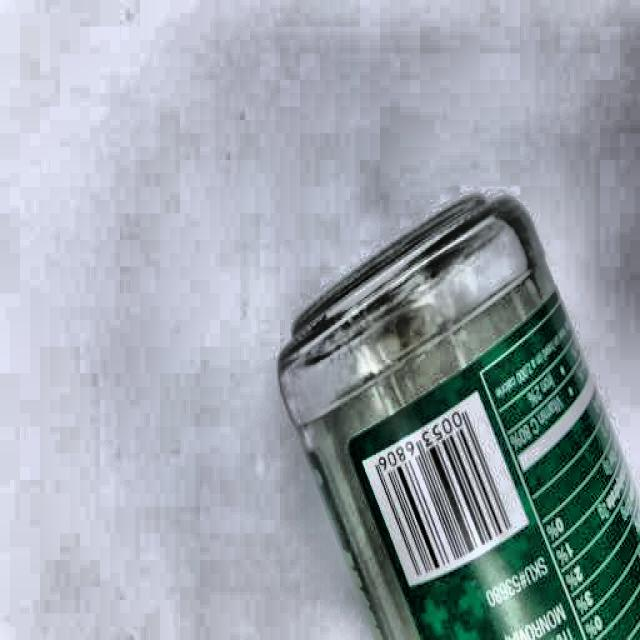glass: (269, 182, 640, 640)
